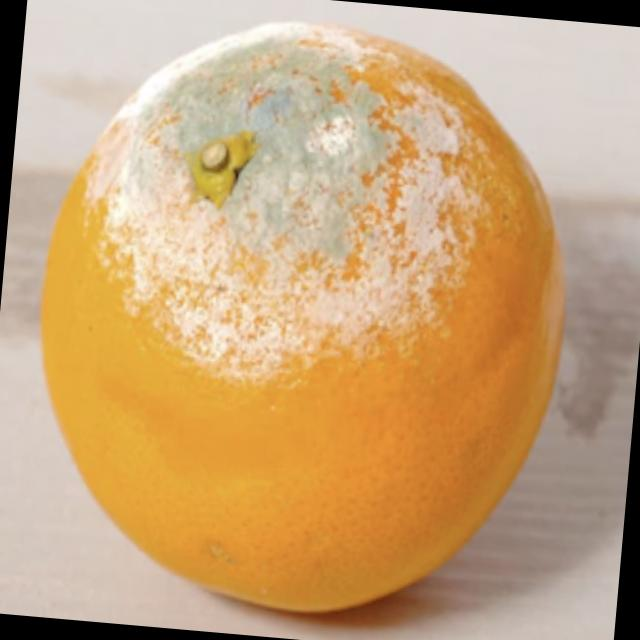rotten-orange: (14, 0, 582, 628)
